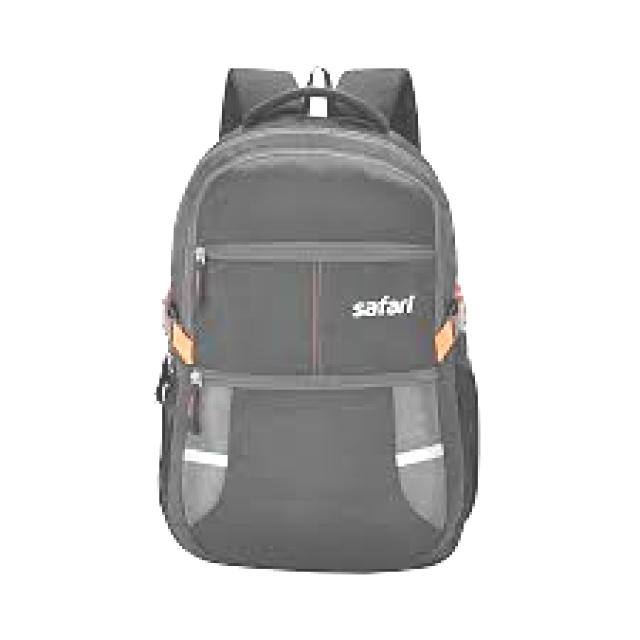backpack: (155, 64, 482, 573)
